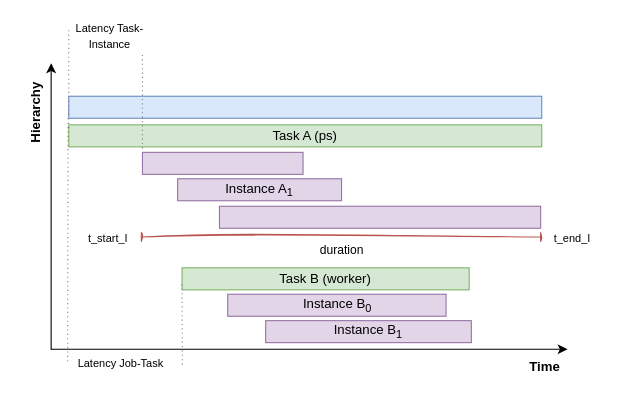
Image size: 624x402. Some labels were removed from this diagram. Each missing label, with the centre of its shape:
"Instance A 0" belongs at point (222, 162).
"Instance A 2" belongs at point (379, 216).
"Job" belongs at point (305, 106).
